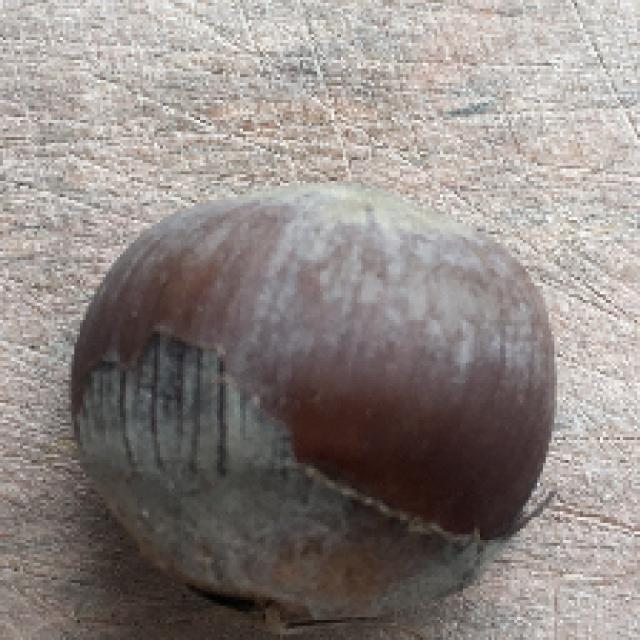DamagedHazelnut: (70, 189, 562, 621)
